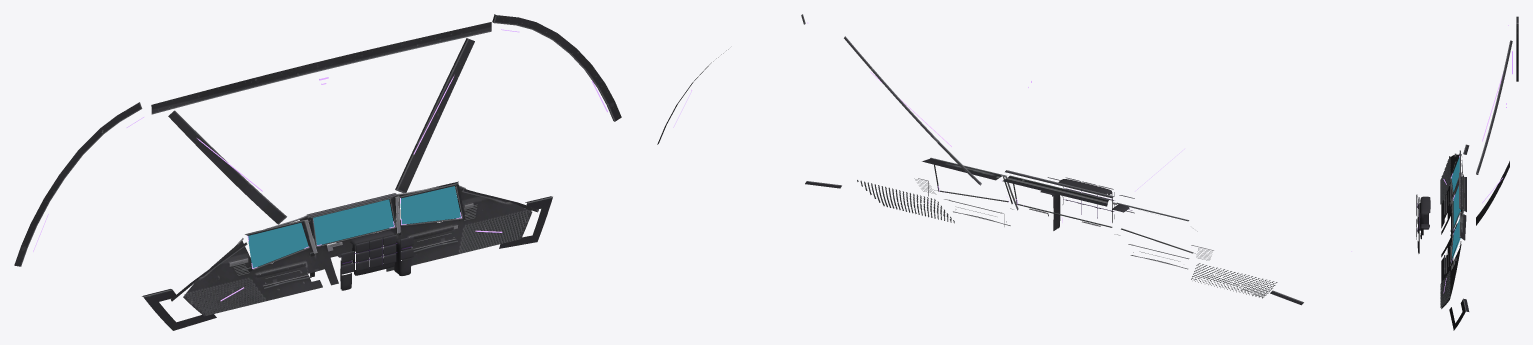
Rendered from sd_hayalet_cockpit_r002_m.glb.
3 views of the same model, side by side, from view 1: azimuth 30°, elevation 25°; view 2: azimuth 150°, elevation 25°; view 3: azimuth 270°, elevation 25° (orthographic). The views are drawn at different scales.
Visible parts, largest first — view 1: LOD0_body, SCR_RADAR, SCR_HULL, SCR_SYS, LOD0_emit; view 2: LOD0_body; view 3: LOD0_body, LOD0_emit, SCR_RADAR, SCR_HULL, SCR_SYS.
Boxes of the visible parts, x1,y1,x2,y2 form: LOD0_body: (14,14,621,330); SCR_RADAR: (313,199,393,245); SCR_HULL: (400,186,460,224); SCR_SYS: (248,223,308,267); LOD0_emit: (33,29,607,301); LOD0_body: (657,14,1303,305); LOD0_body: (1416,16,1518,330); LOD0_emit: (1443,25,1512,293); SCR_RADAR: (1453,185,1460,228); SCR_HULL: (1452,219,1460,259); SCR_SYS: (1451,157,1459,191).
Size of the model in its own units: 4.82 by 1.52 by 0.8424.
Materials: 3 (1 with a texture image).
